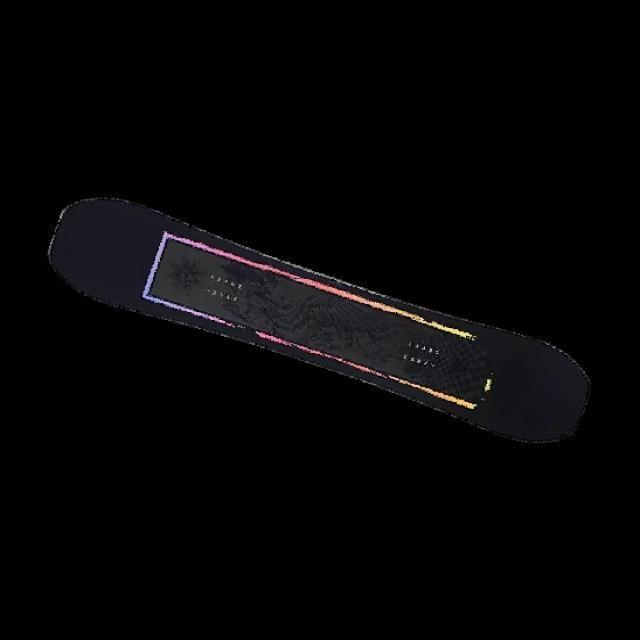Snowboard: (46, 195, 591, 445)
